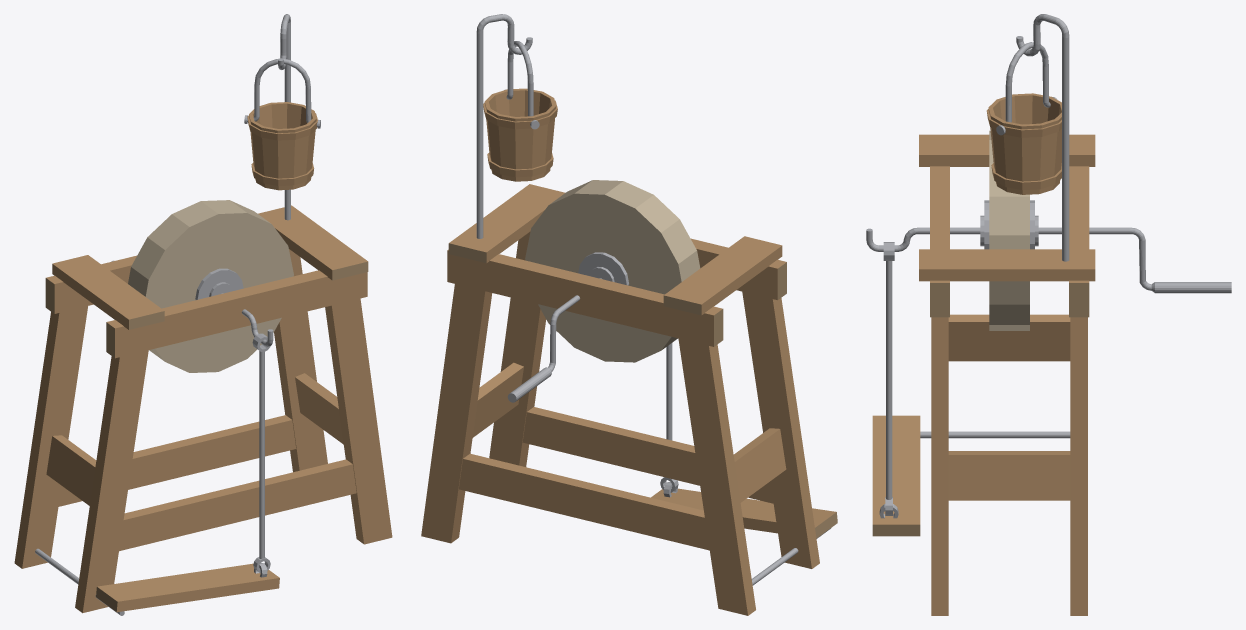
File: grindstone.glb
3 views of the same model, side by side, from view 1: azimuth 30°, elevation 25°; view 2: azimuth 150°, elevation 25°; view 3: azimuth 270°, elevation 25° (orthographic). The views are drawn at different scales.
Visible parts, largest first — view 1: Grindstone.001; view 2: Grindstone.001; view 3: Grindstone.001.
Part boxes in pixels (box(x1,y1,x2,y2)): Grindstone.001: box(14, 14, 392, 615); Grindstone.001: box(421, 14, 837, 615); Grindstone.001: box(866, 14, 1231, 615).
Size of the model in its own units: 0.9428 by 1.44 by 0.838.
